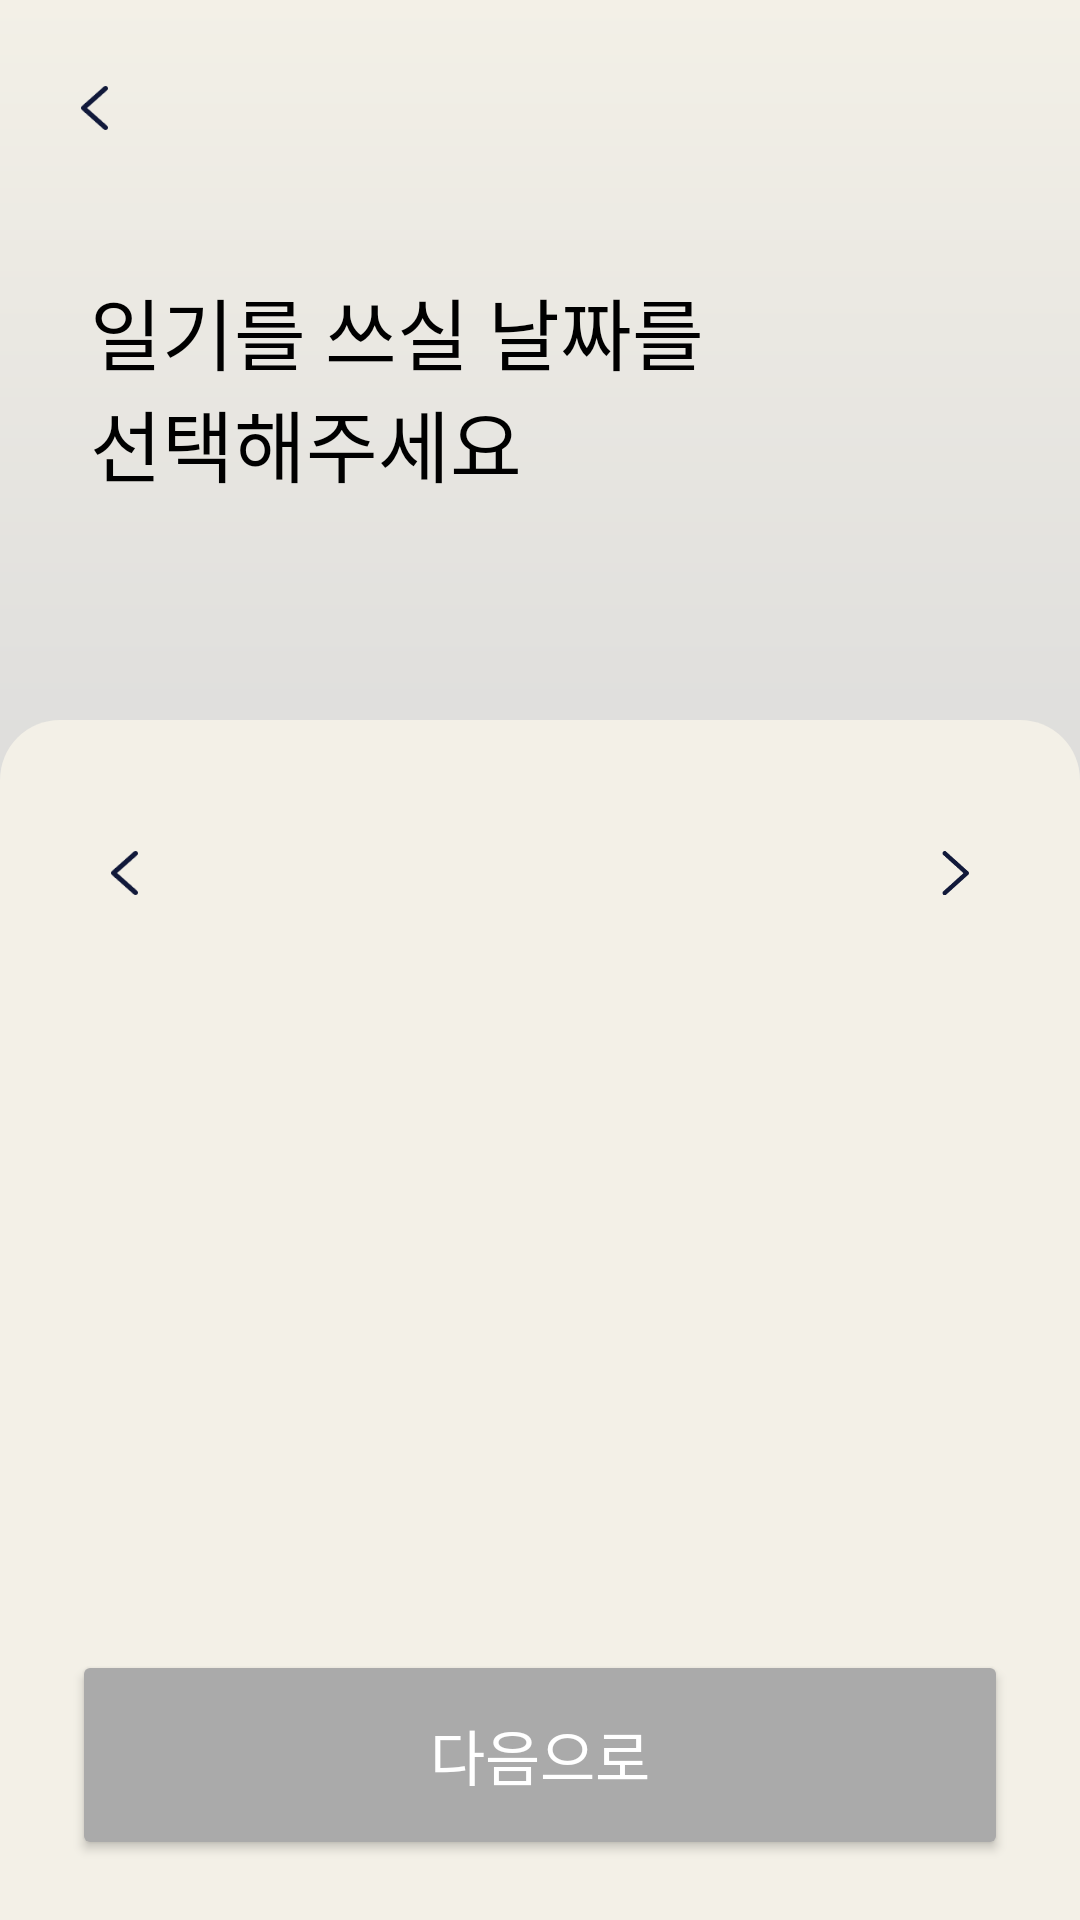

Locate icon controls on the screen. Image size 1080 × 1920, boxes as bbox(x1, y1, x2, y2).
arrow: bbox(81, 86, 108, 130), bbox(111, 851, 138, 895)
nextarrow: bbox(942, 851, 969, 895)
